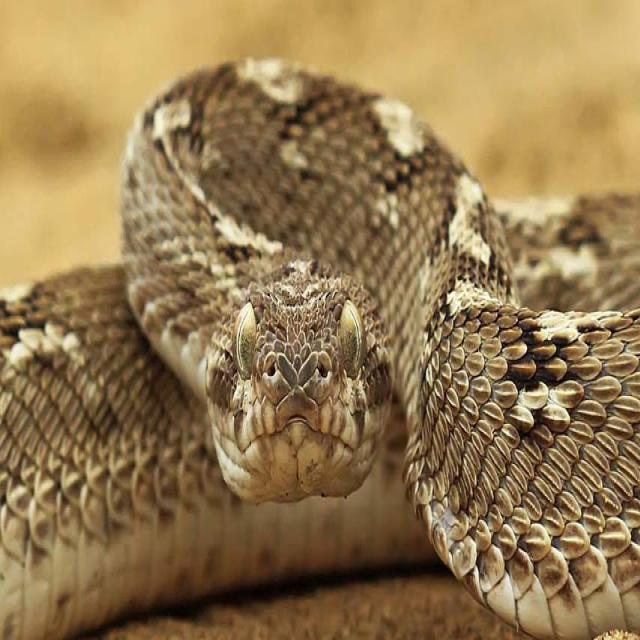Snake: (1, 53, 638, 638)
